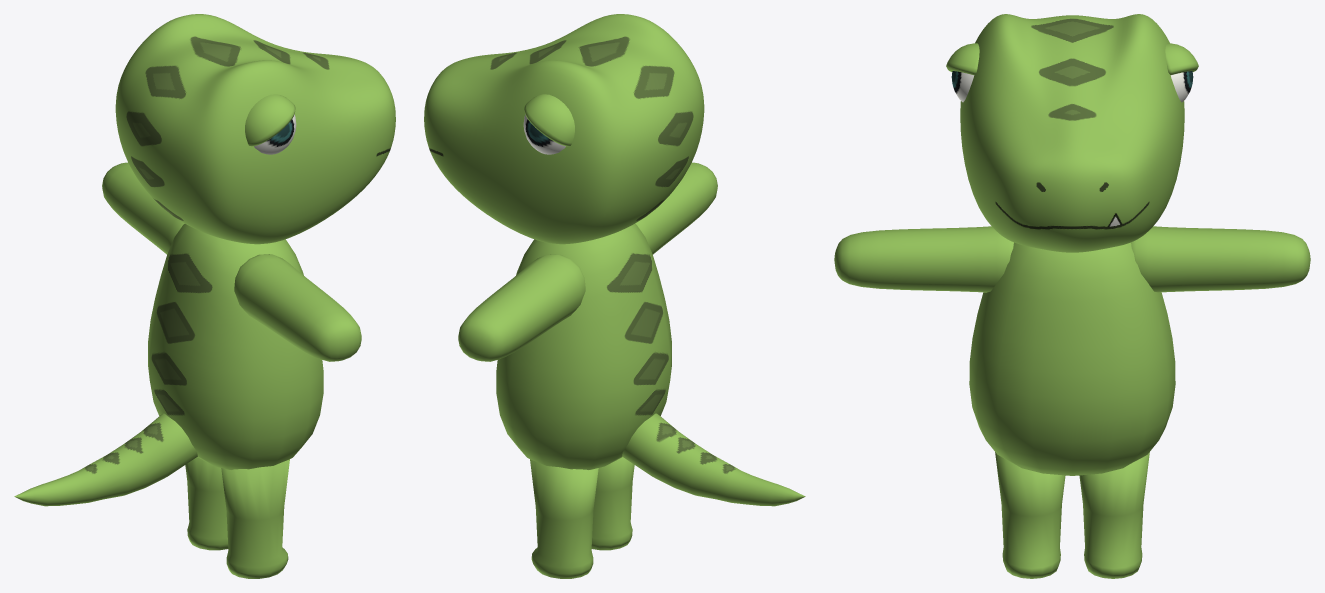
File: crocotextures.fbx
The picture shows the model from 3 angles, left to right: view 1: azimuth 30°, elevation 25°; view 2: azimuth 150°, elevation 25°; view 3: azimuth 270°, elevation 25°; orthographic projection. The views are drawn at different scales.
Visible parts, largest first — view 1: Tail; view 2: Tail; view 3: Tail.
Boxes of the visible parts, x1=… form: Tail: x1=14, y1=14, x2=395, y2=578; Tail: x1=424, y1=14, x2=805, y2=578; Tail: x1=834, y1=14, x2=1310, y2=578.
Size of the model in its own units: 102 by 136 by 109.
Materials: 1 (1 with a texture image).
